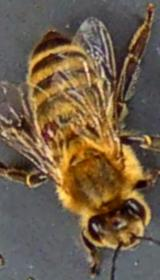varroa_mite: (36, 116, 64, 142)
